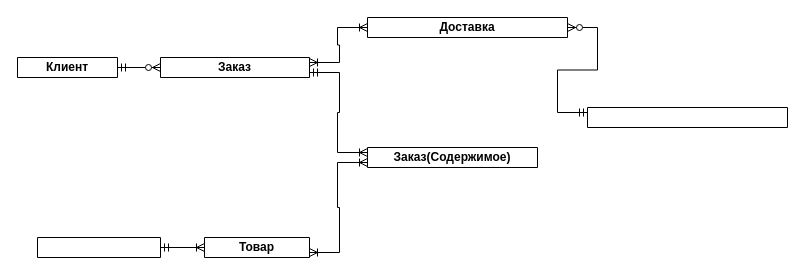
This 805x279 diagram has some shape labels left out. The shapes that lost their labels are listed below. From the top down, each one's centre as x and y in pixels, then its label:
At point 687,117: "Доставка(сотрудники)".
At point 98,247: "Категория товаров".
